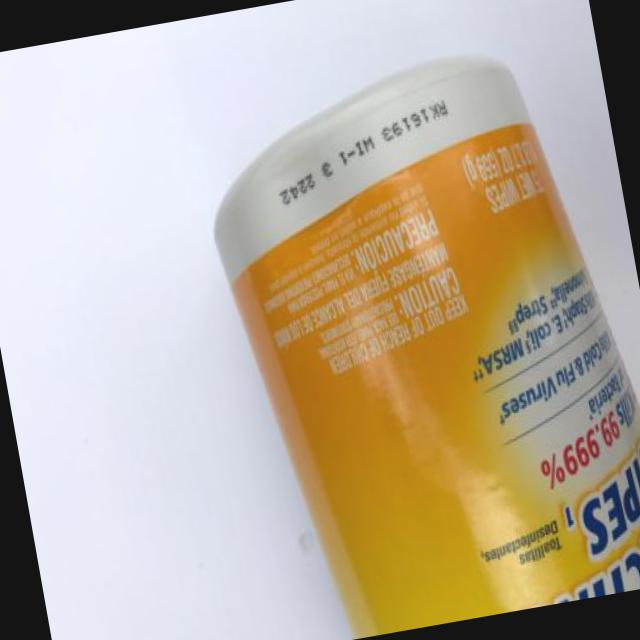Trash: (193, 52, 640, 640)
